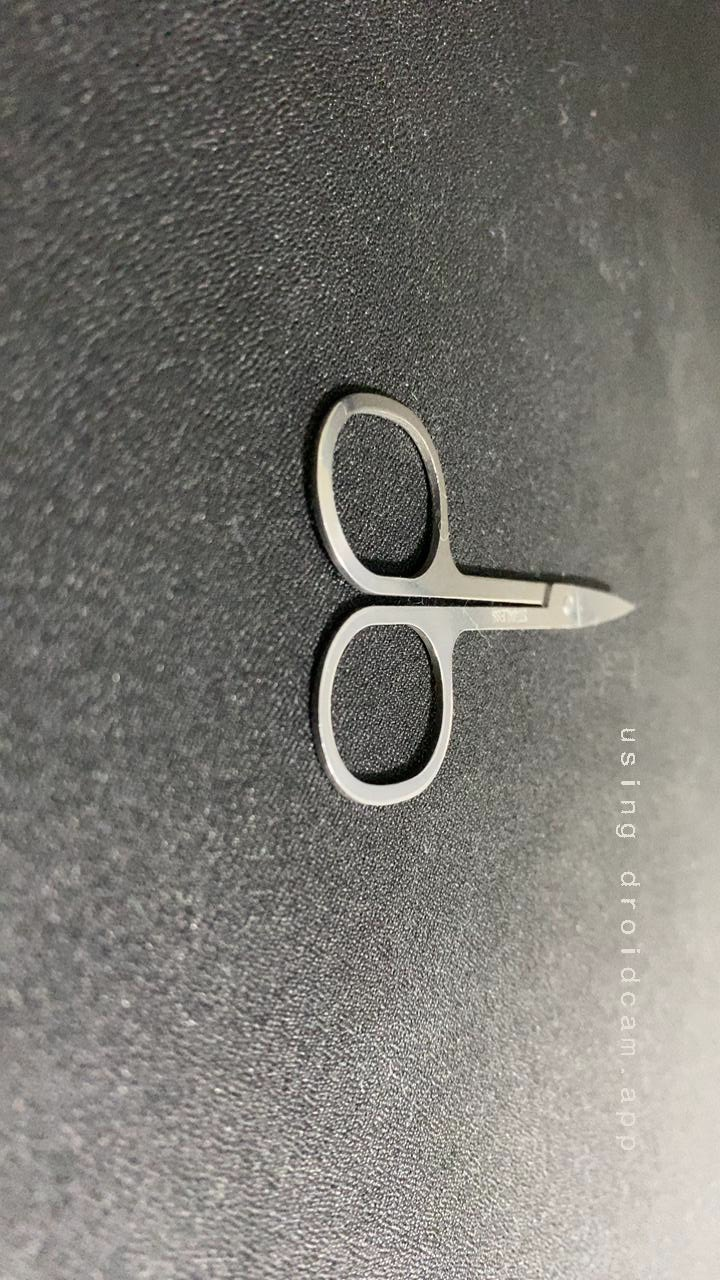scissor: (220, 367, 476, 792)
